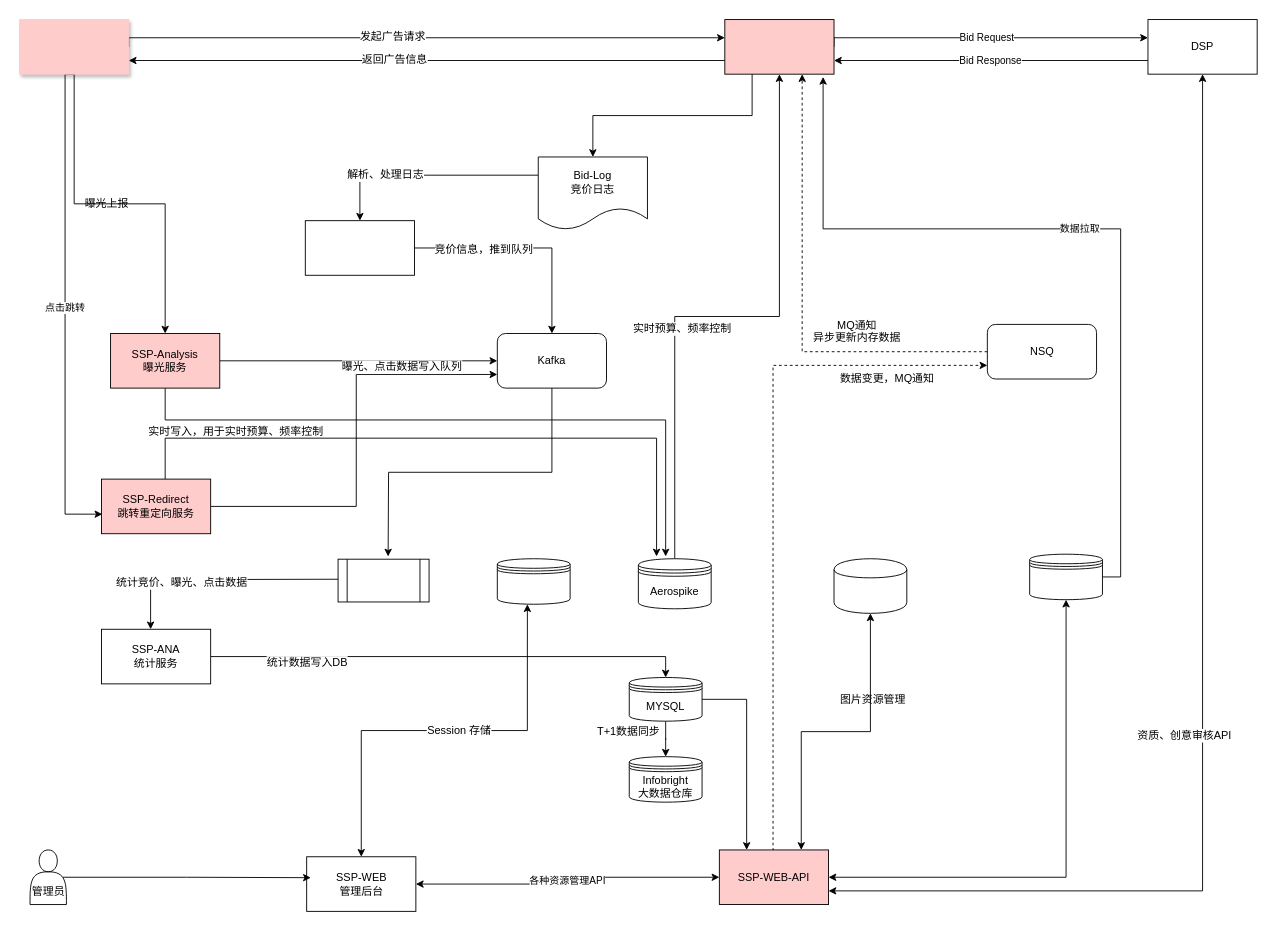
Image size: 1273x927. Some labels were removed from this diagram. Here are the shapes that lost their labels. From the top down, the centre of each, then its label:
At [74,48]: "WEB/APP".
At [779,46]: "SSP-Bid 竞价引擎".
At [359,247]: "SSP-Bid-Log 竞价日志服务".
At [383,580]: "Storm".
At [533,581]: "Redis".
At [870,585]: "Riak 文件对象存储".
At [1065,576]: "MongoDB".
